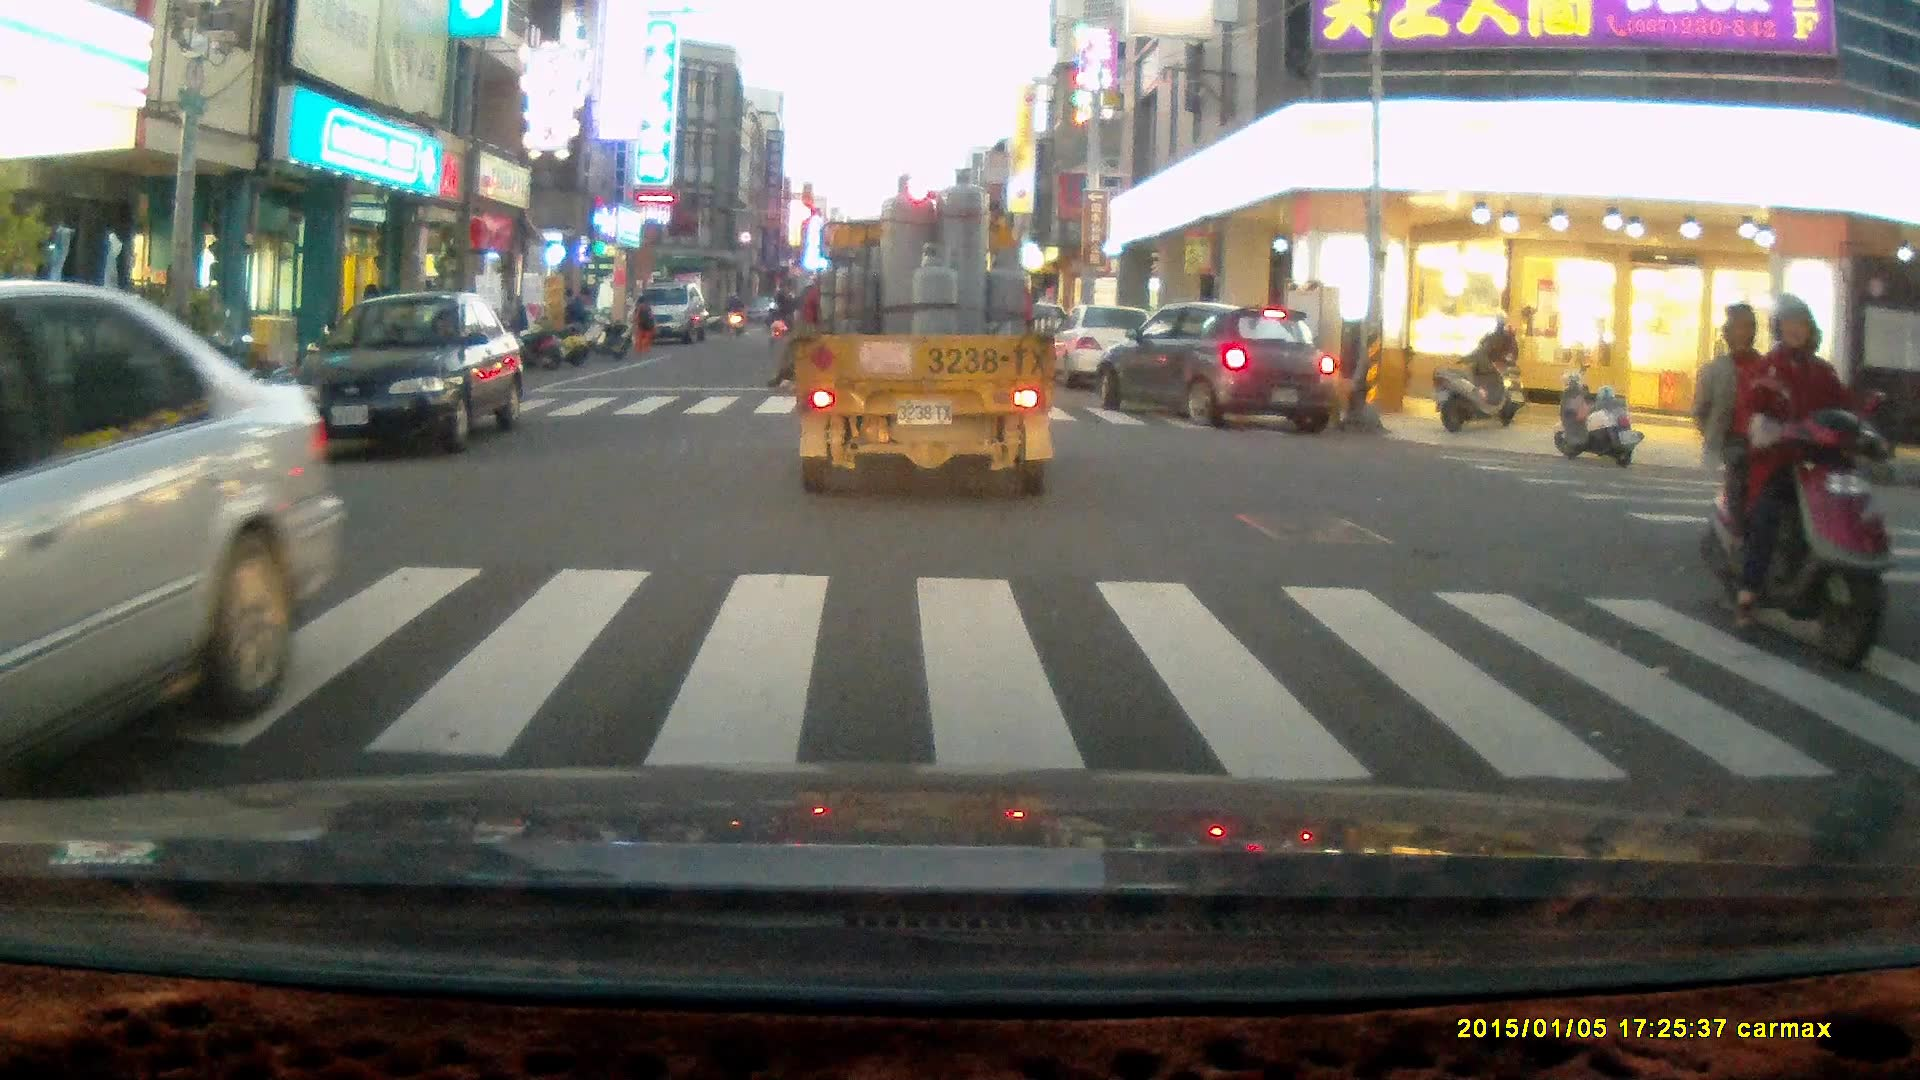pedestrian: (561, 285, 590, 352), (628, 295, 652, 355)
rider: (1691, 293, 1887, 673), (1466, 309, 1525, 428)
vehicle: (1, 285, 345, 797), (790, 164, 1068, 496), (290, 292, 526, 456), (1096, 304, 1335, 430), (1051, 306, 1170, 396), (628, 280, 703, 340)
